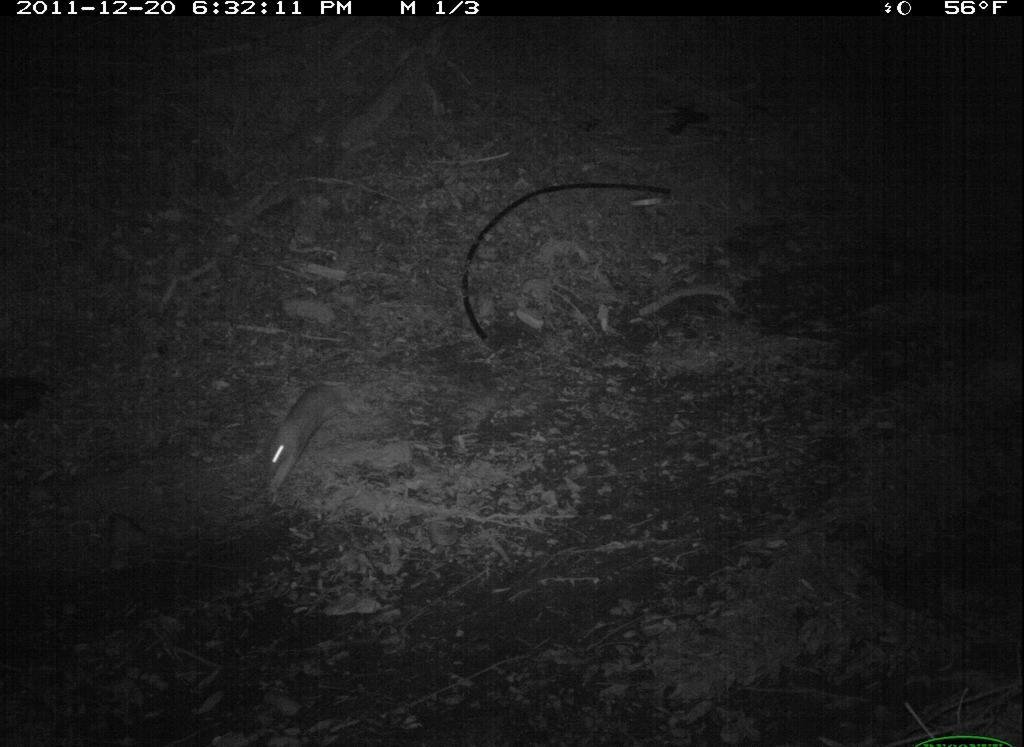rabbit: (258, 379, 353, 506)
